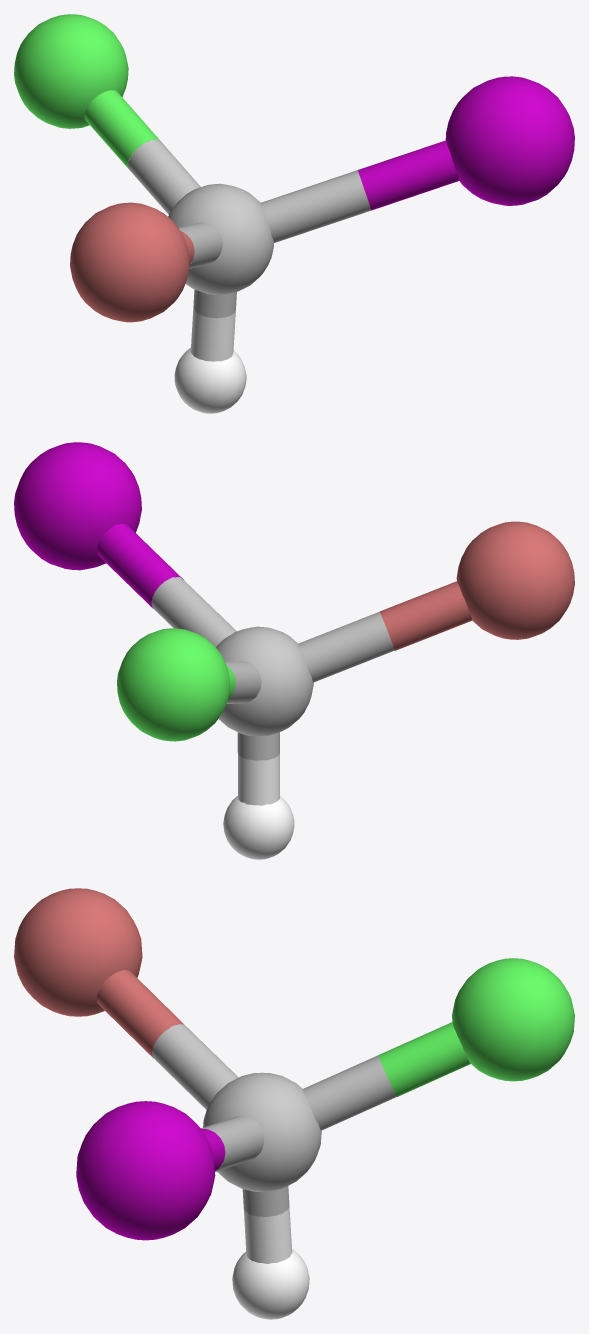
File: cbim1-2.fbx
3 renders of one model, top to bottom at view 1: azimuth 30°, elevation 25°; view 2: azimuth 150°, elevation 25°; view 3: azimuth 270°, elevation 25°, orthographic. The views are drawn at different scales.
Visible parts, largest first — view 1: cbim1; view 2: cbim1; view 3: cbim1.
Boxes of the visible parts, x1,y1,x2,y2 form: cbim1: (14,14,574,413); cbim1: (14,442,574,859); cbim1: (14,888,574,1319).
Bounding box in the file's own units: 422 × 244 × 367.
